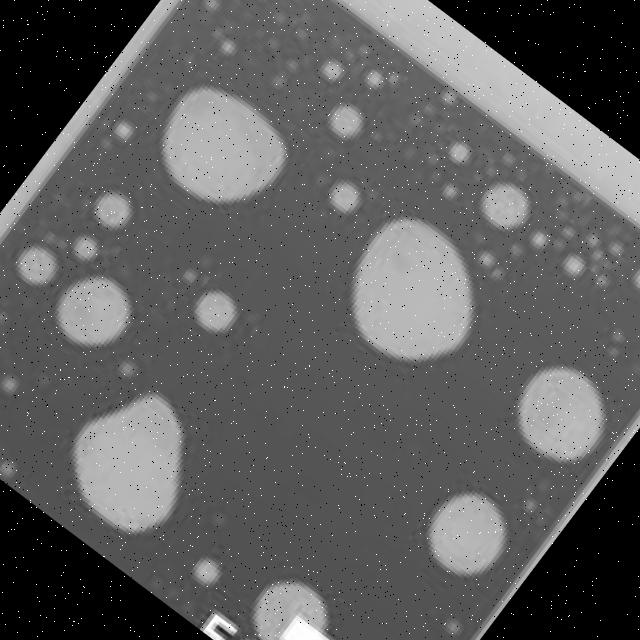chip: (0, 0, 640, 640)
void: (352, 217, 473, 361), (72, 393, 183, 533), (162, 86, 286, 203), (517, 366, 605, 461), (427, 492, 506, 575), (55, 277, 130, 347), (252, 582, 327, 640), (480, 183, 529, 228), (195, 290, 236, 332), (16, 246, 56, 285), (93, 192, 132, 229), (329, 104, 363, 139), (329, 182, 359, 214), (192, 557, 220, 586), (72, 234, 96, 261), (447, 141, 471, 164), (563, 254, 585, 277), (320, 59, 342, 81), (112, 120, 134, 141), (364, 69, 384, 89), (529, 230, 548, 249), (0, 375, 17, 394), (444, 619, 462, 636), (118, 360, 136, 377), (219, 37, 236, 54), (441, 183, 457, 200), (0, 460, 15, 478), (479, 251, 495, 266), (441, 89, 456, 104)
